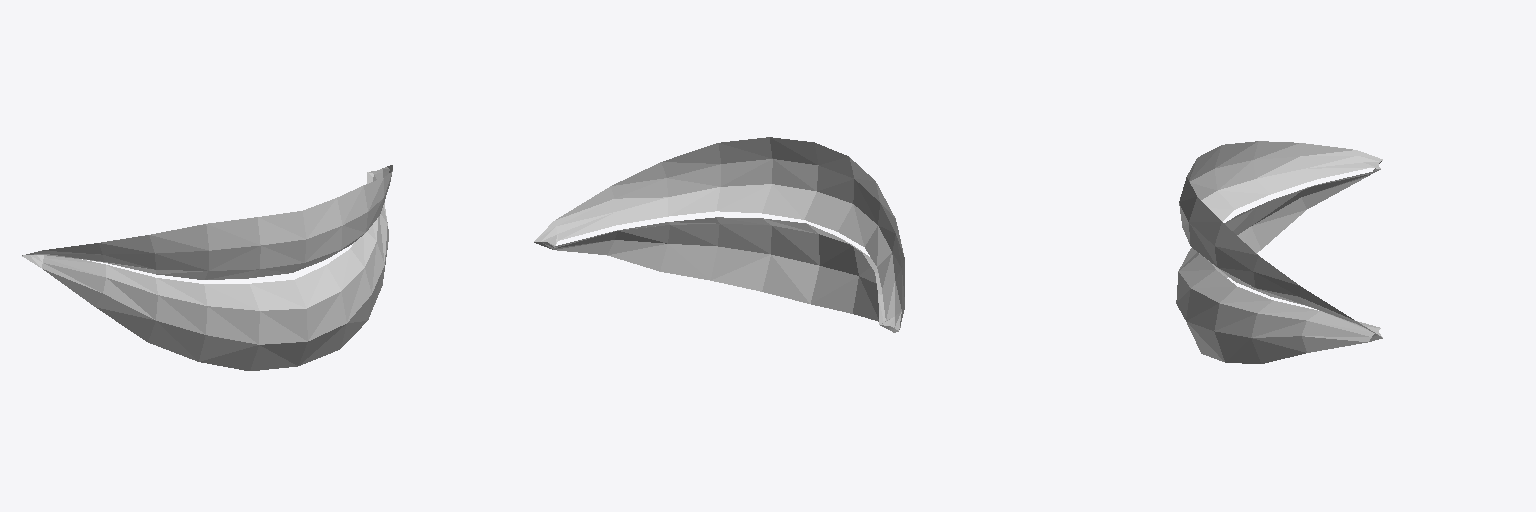
The model's file is lips bron.obj.
The picture shows the model from 3 angles: view 1: azimuth 30°, elevation 25°; view 2: azimuth 150°, elevation 25°; view 3: azimuth 270°, elevation 25°; orthographic projection.
Parts seen in each view (by area): view 1: lips; view 2: lips; view 3: lips.
Part boxes in pixels (bbox=[...]): lips: bbox=[22, 165, 392, 370]; lips: bbox=[534, 137, 904, 332]; lips: bbox=[1176, 141, 1382, 363].
Size of the model in its own units: 0.1803 by 0.0748 by 0.0885.